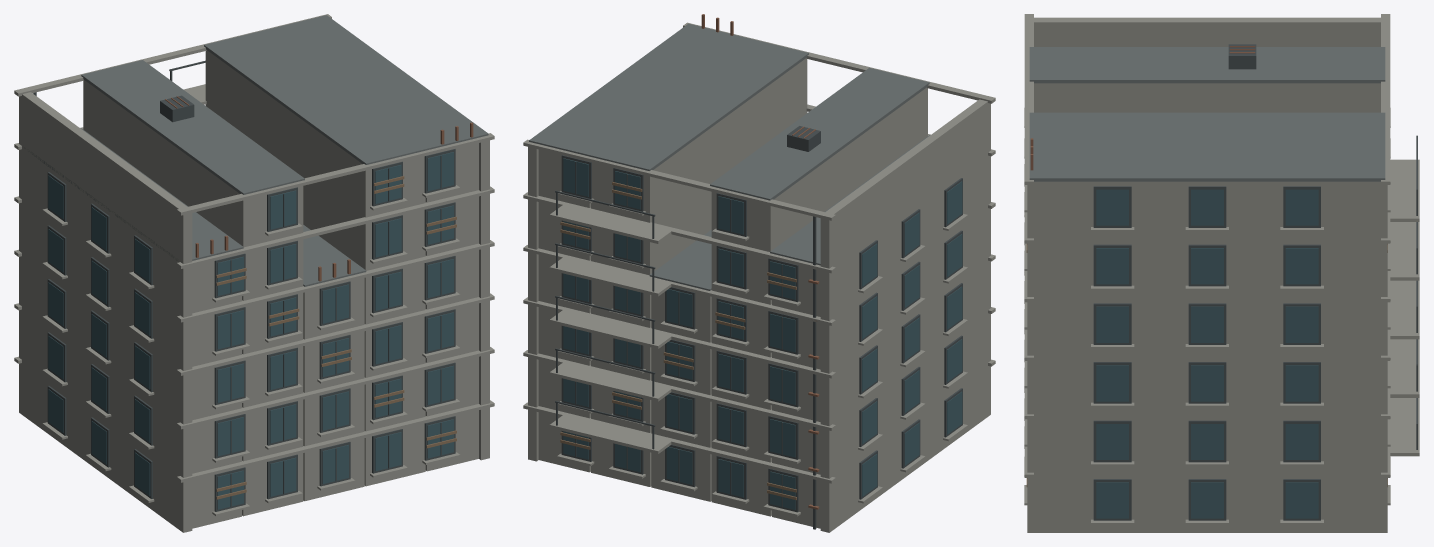
File: Ville_Batiment_11.fbx
3 views of the same model, side by side, from view 1: azimuth 30°, elevation 25°; view 2: azimuth 150°, elevation 25°; view 3: azimuth 270°, elevation 25° (orthographic). The views are drawn at different scales.
Parts seen in each view (by area): view 1: Ville_Batiment_11_concrete, Ville_Batiment_11_concrete_dark, Ville_Batiment_11_glass, Ville_Batiment_11_iron, Ville_Batiment_11_wood, Ville_Batiment_11_rust; view 2: Ville_Batiment_11_concrete, Ville_Batiment_11_concrete_dark, Ville_Batiment_11_glass, Ville_Batiment_11_iron, Ville_Batiment_11_wood; view 3: Ville_Batiment_11_concrete, Ville_Batiment_11_concrete_dark, Ville_Batiment_11_glass, Ville_Batiment_11_iron.
Boxes of the visible parts, box(x1,y1,x2,y2) form: Ville_Batiment_11_concrete: box(14, 14, 494, 532); Ville_Batiment_11_concrete_dark: box(24, 15, 488, 286); Ville_Batiment_11_glass: box(48, 152, 453, 509); Ville_Batiment_11_iron: box(33, 60, 455, 511); Ville_Batiment_11_wood: box(216, 176, 456, 499); Ville_Batiment_11_rust: box(165, 96, 473, 281); Ville_Batiment_11_concrete: box(523, 22, 995, 532); Ville_Batiment_11_concrete_dark: box(529, 23, 929, 290); Ville_Batiment_11_glass: box(563, 158, 962, 509); Ville_Batiment_11_iron: box(555, 126, 962, 529); Ville_Batiment_11_wood: box(560, 182, 796, 500); Ville_Batiment_11_concrete: box(1024, 14, 1419, 532); Ville_Batiment_11_concrete_dark: box(1029, 47, 1385, 181); Ville_Batiment_11_glass: box(1096, 189, 1318, 518); Ville_Batiment_11_iron: box(1093, 44, 1417, 520).
Bounding box in the file's own units: 43.56 × 44.2 × 42.85.
